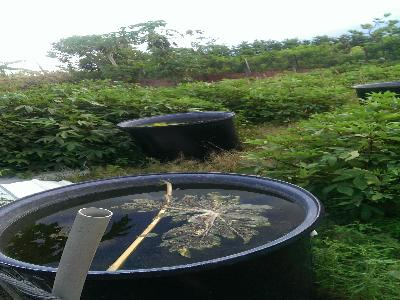bucket: (1, 174, 325, 300), (117, 111, 238, 161)
